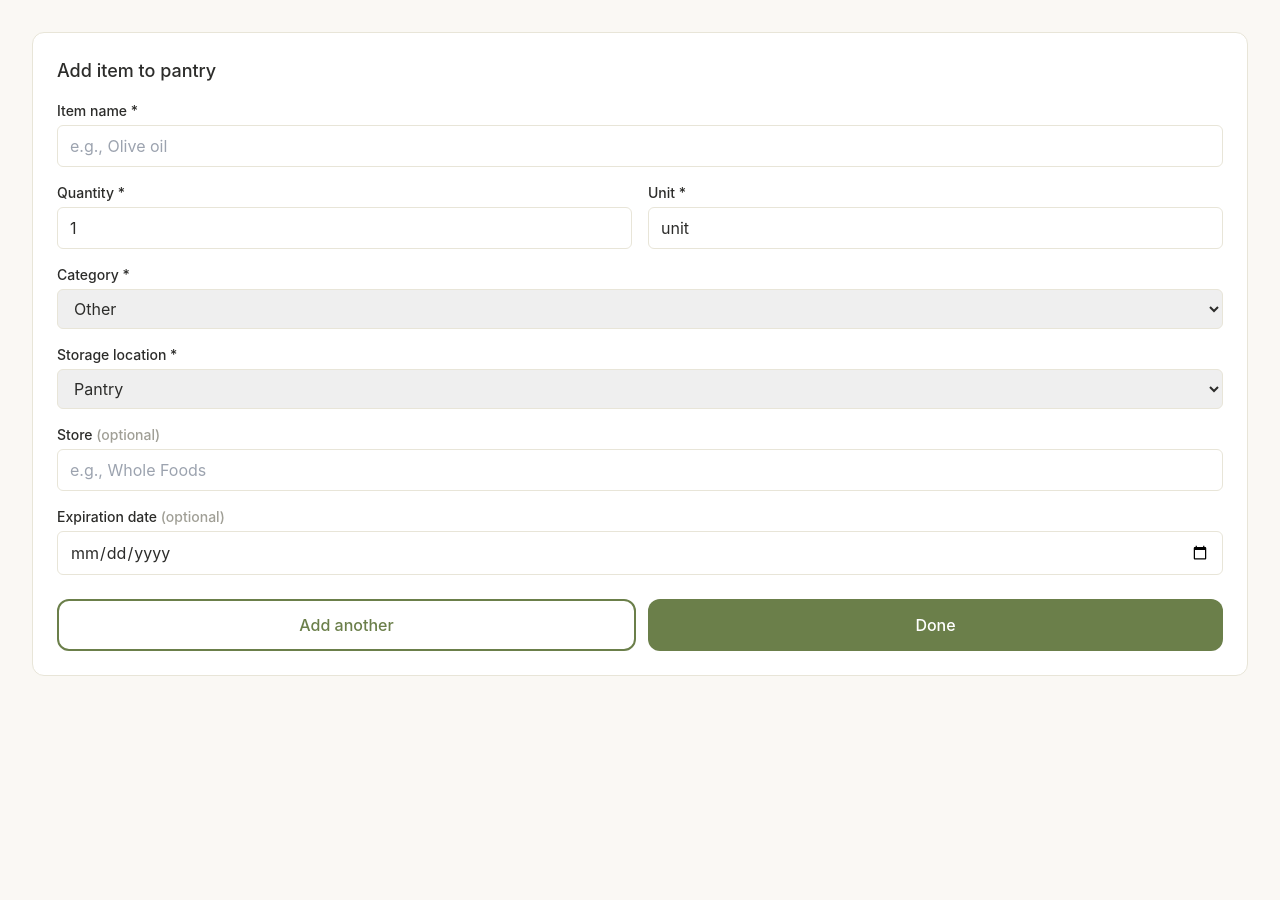
Test: ManualAddTab › Form Validation › shows validation error when quantity is negative
Type "Olive oil" into the field labelled "Item name *".
click(640, 146); type("Olive oil")  # box [57,125,1223,167]
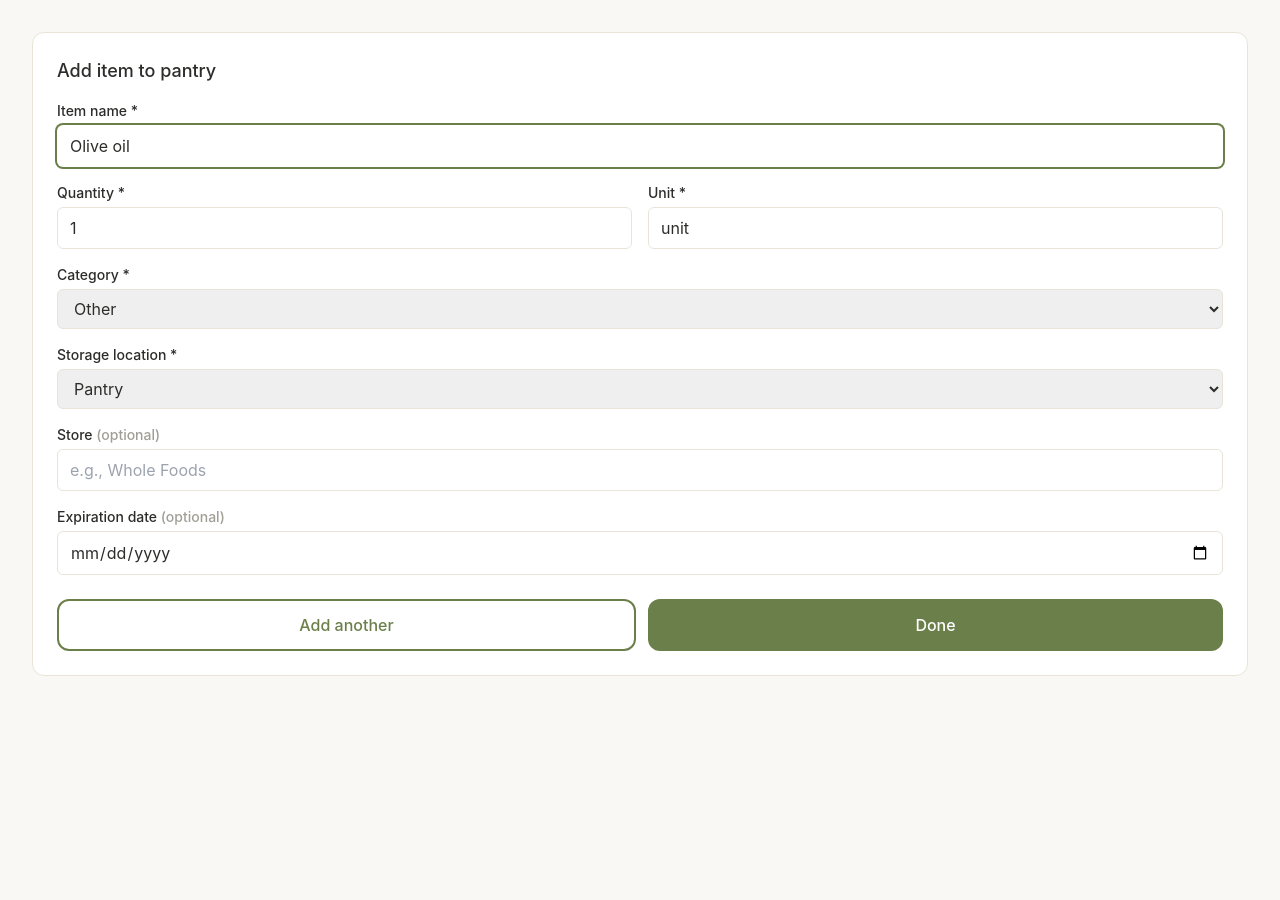
Replace the text in the number field labelled "Quantity *" with "-1" at (344, 228), box [57,207,632,249]
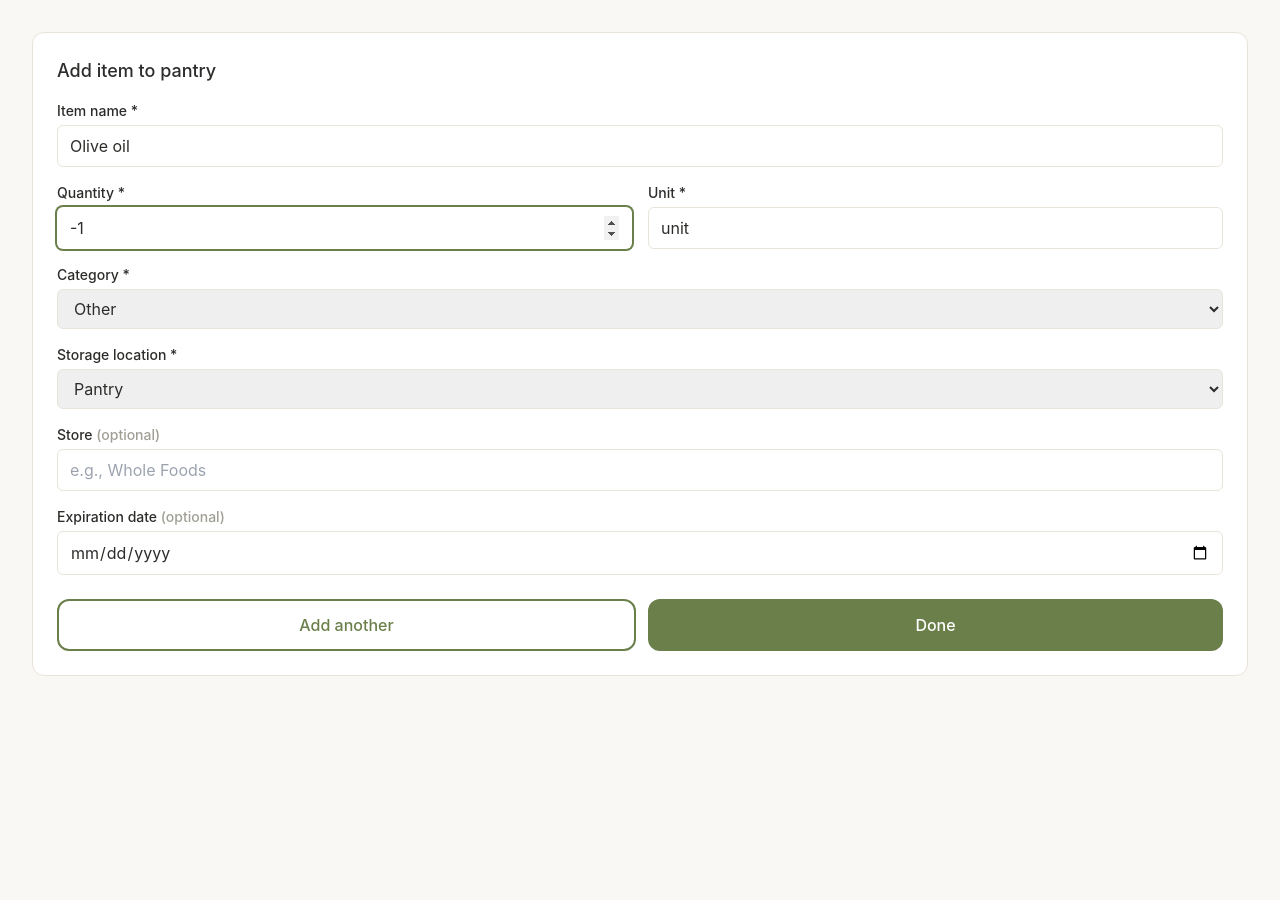
Click the button "Add another".
click(346, 625)  # box [57,599,636,651]
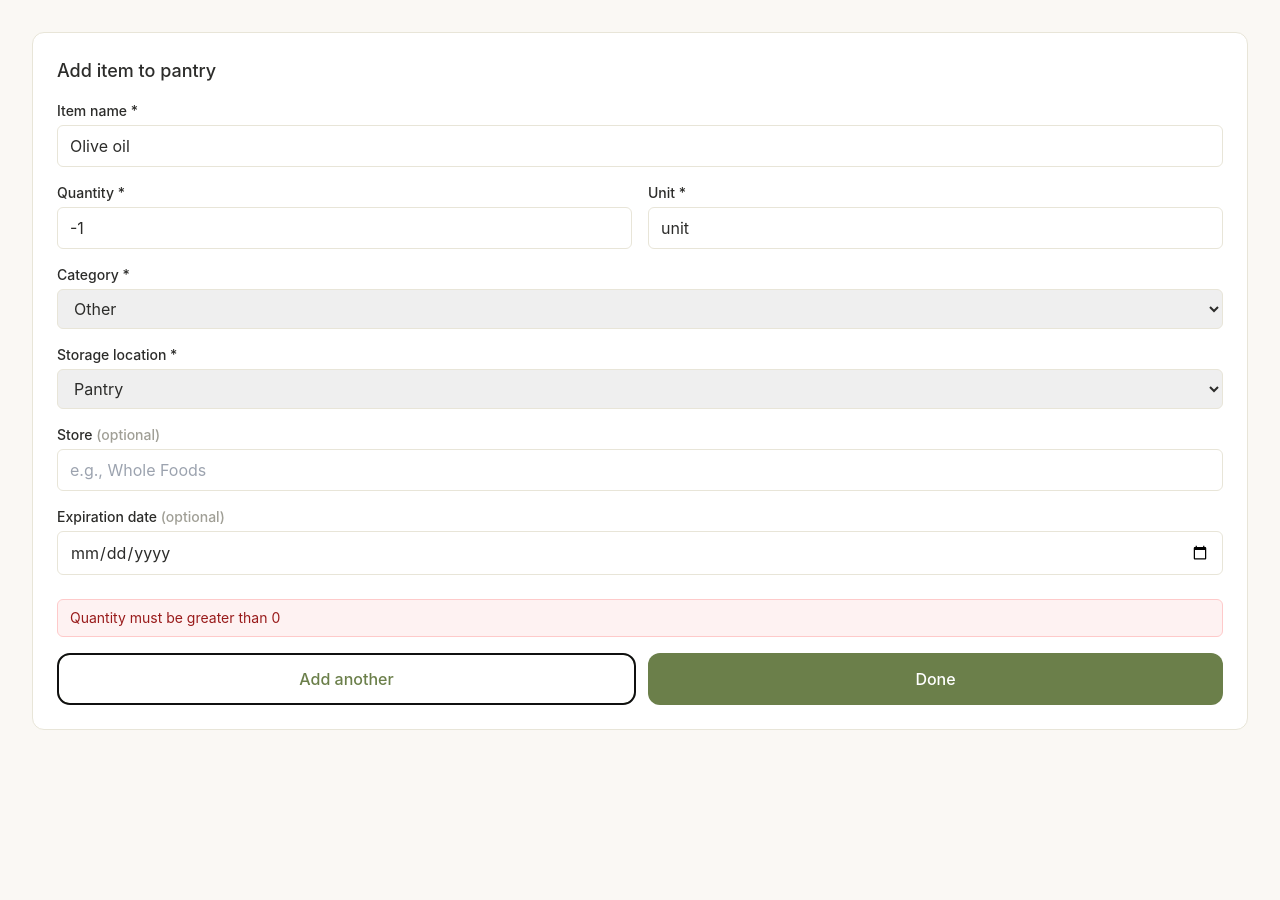
Now the message reads "Quantity must be greater than 0", box [70,609,280,626]
